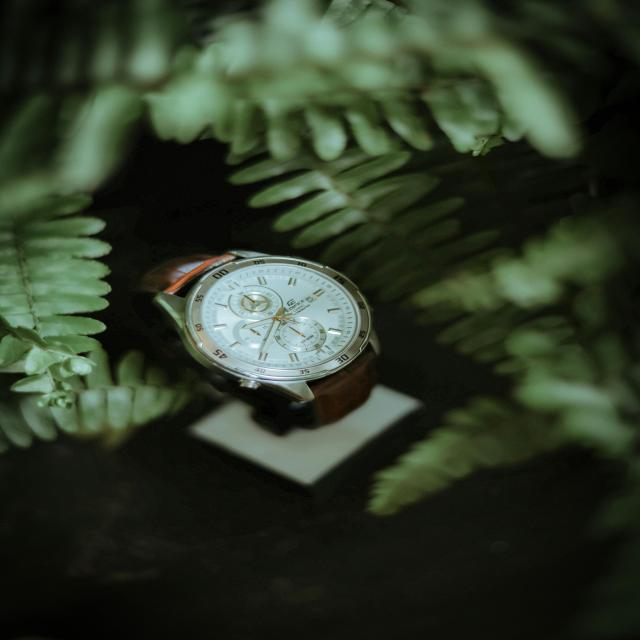relogio: (124, 241, 390, 439)
